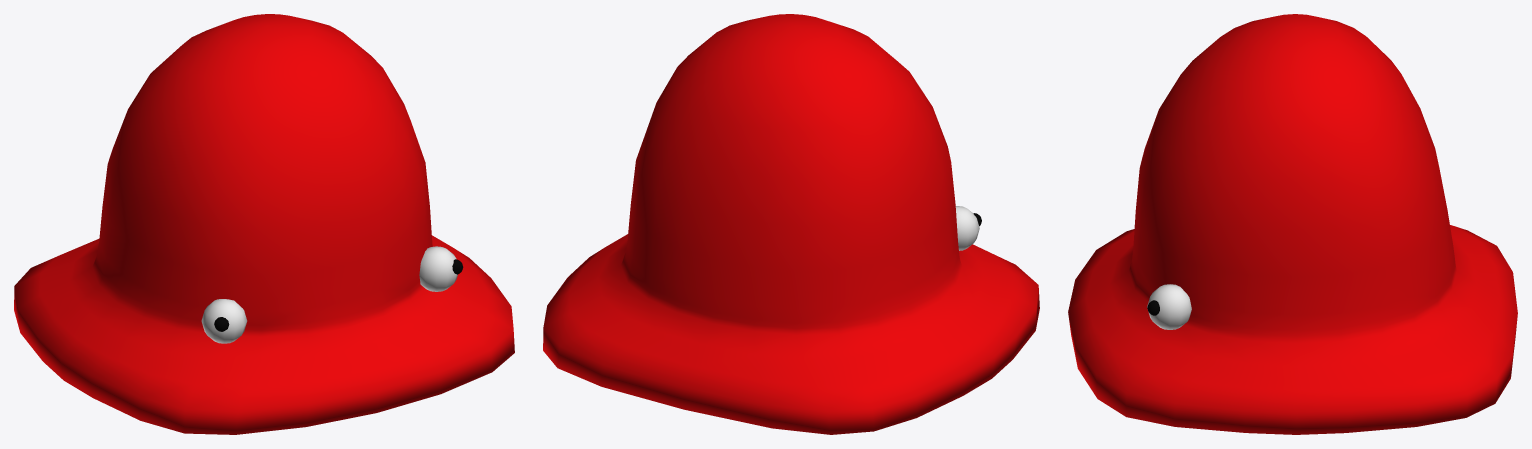
The model's file is Bouba1.fbx.
3 renders of one model, left to right at view 1: azimuth 30°, elevation 25°; view 2: azimuth 150°, elevation 25°; view 3: azimuth 270°, elevation 25°, orthographic.
Parts seen in each view (by area): view 1: Sphere001; view 2: Sphere001; view 3: Sphere001.
Boxes of the visible parts, bbox=[...] form: Sphere001: bbox=[14, 14, 514, 434]; Sphere001: bbox=[543, 14, 1039, 434]; Sphere001: bbox=[1068, 14, 1517, 434].
Size of the model in its own units: 299 by 219 by 283.
